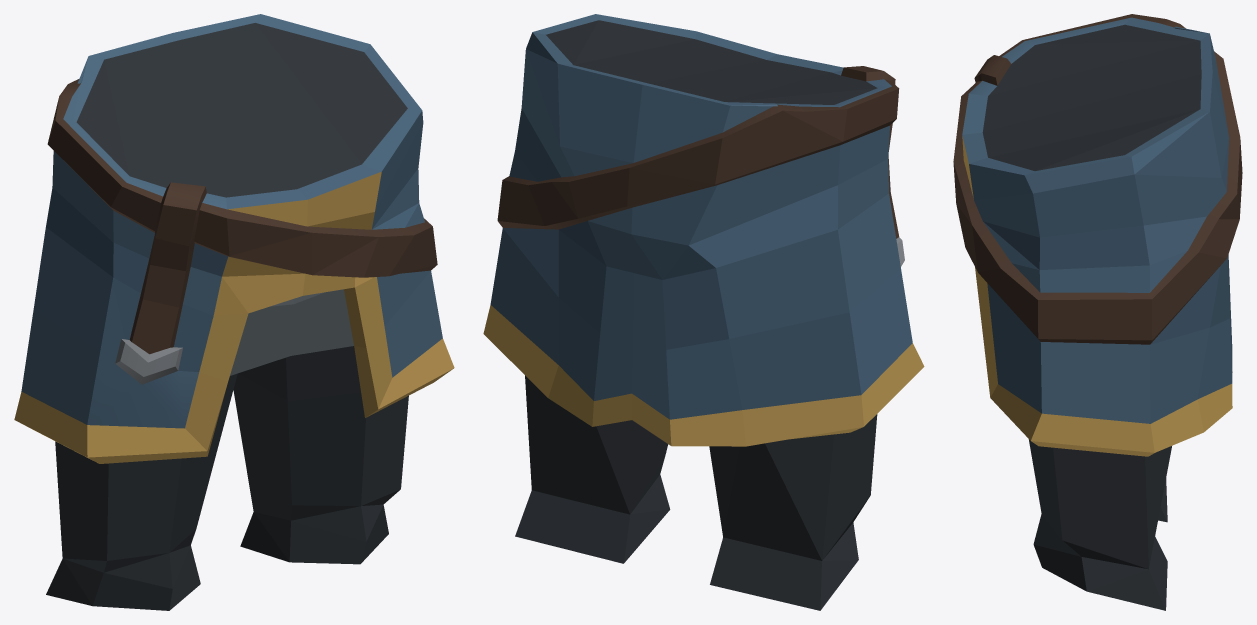
Rendered from Chr_Hips_Male_06_Static.fbx.
The picture shows the model from 3 angles, left to right: view 1: azimuth 30°, elevation 25°; view 2: azimuth 150°, elevation 25°; view 3: azimuth 270°, elevation 25°; orthographic projection. The views are drawn at different scales.
Visible parts, largest first — view 1: Chr_Hips_Male_06_Static; view 2: Chr_Hips_Male_06_Static; view 3: Chr_Hips_Male_06_Static.
Boxes of the visible parts, x1,y1,x2,y2 form: Chr_Hips_Male_06_Static: (14,14,454,610); Chr_Hips_Male_06_Static: (483,14,924,610); Chr_Hips_Male_06_Static: (953,14,1242,610).
Bounding box in the file's own units: 0.4354 × 0.5545 × 0.3089.
